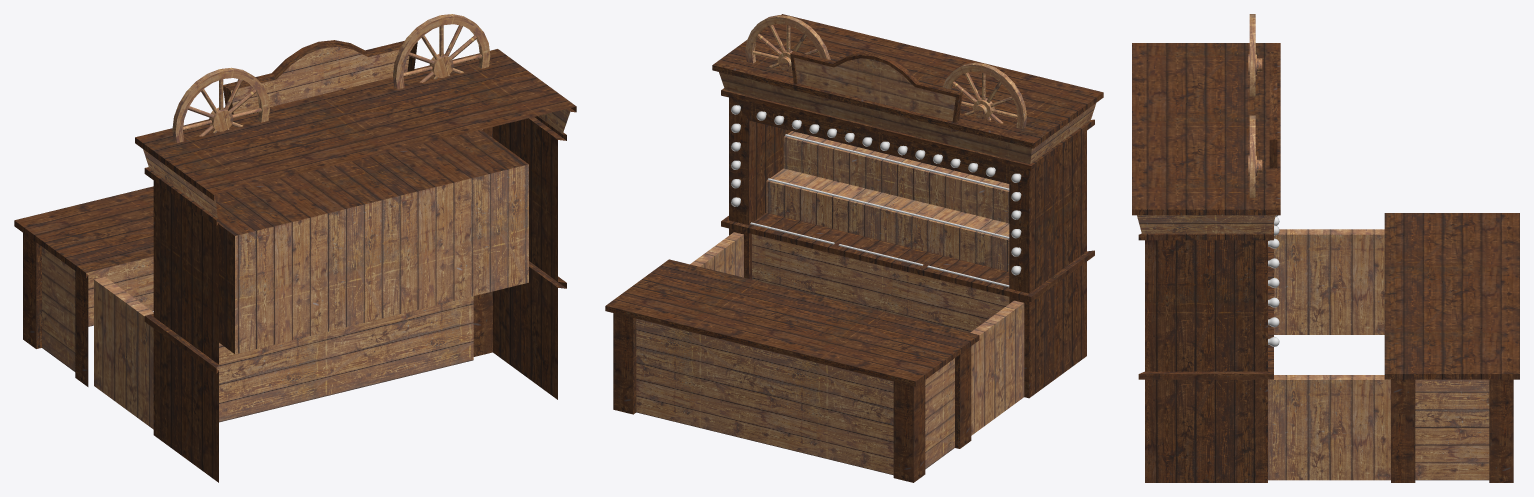
The model's file is ShootingGallery.fbx.
3 views of the same model, side by side, from view 1: azimuth 30°, elevation 25°; view 2: azimuth 150°, elevation 25°; view 3: azimuth 270°, elevation 25° (orthographic). The views are drawn at different scales.
Parts seen in each view (by area): view 1: ShootingGallery; view 2: ShootingGallery; view 3: ShootingGallery.
Part boxes in pixels (left/top/right/bottom): ShootingGallery: left=14, top=14, right=576, bottom=482; ShootingGallery: left=605, top=14, right=1103, bottom=482; ShootingGallery: left=1132, top=14, right=1519, bottom=482.
Bounding box in the file's own units: 3.21 × 3.01 × 3.15.
